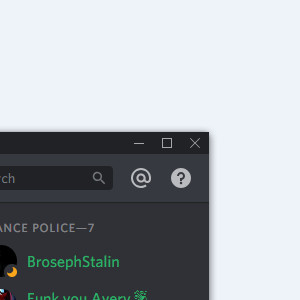close: (182, 132, 208, 153)
